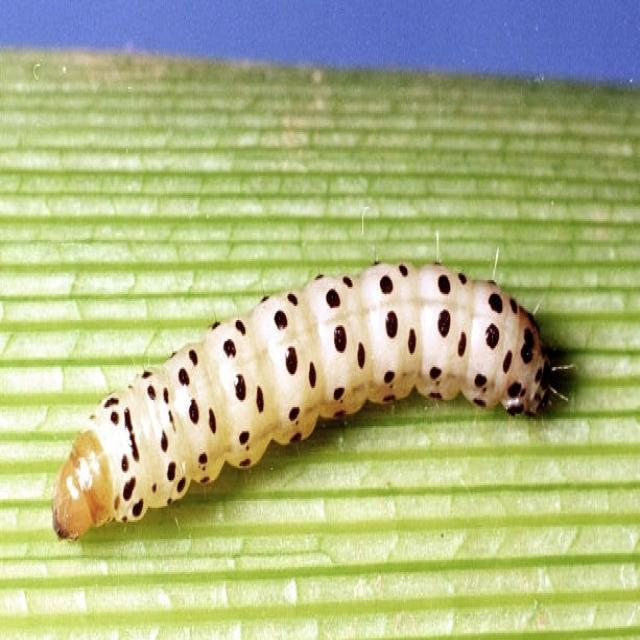cornborer-Larva-: (38, 240, 574, 546)
